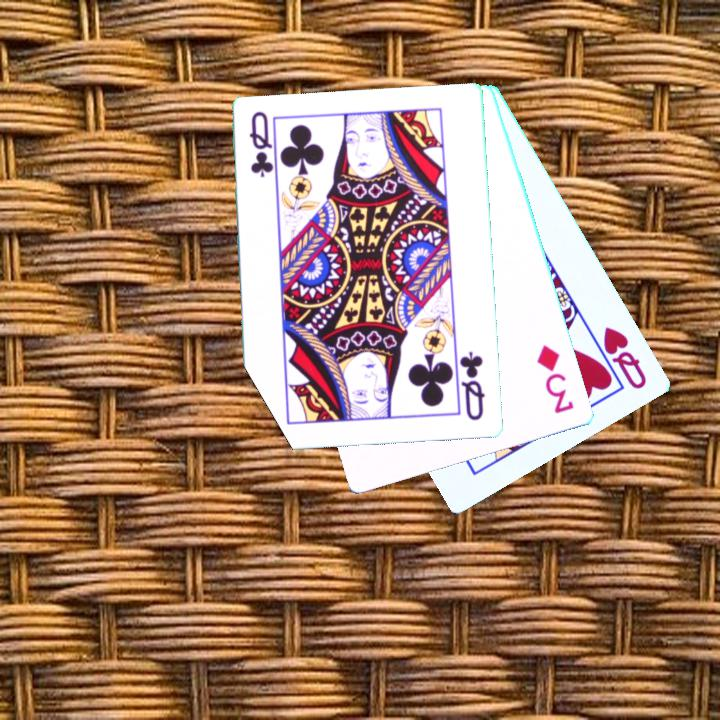3d: (533, 341, 577, 417)
Qc: (456, 348, 489, 424), (247, 108, 276, 181)
Qh: (600, 323, 650, 393)
